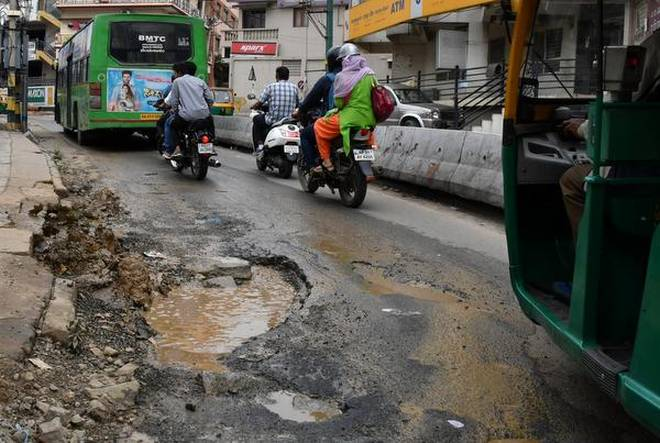pothole: (131, 249, 306, 378), (337, 247, 477, 317), (245, 377, 350, 428)
